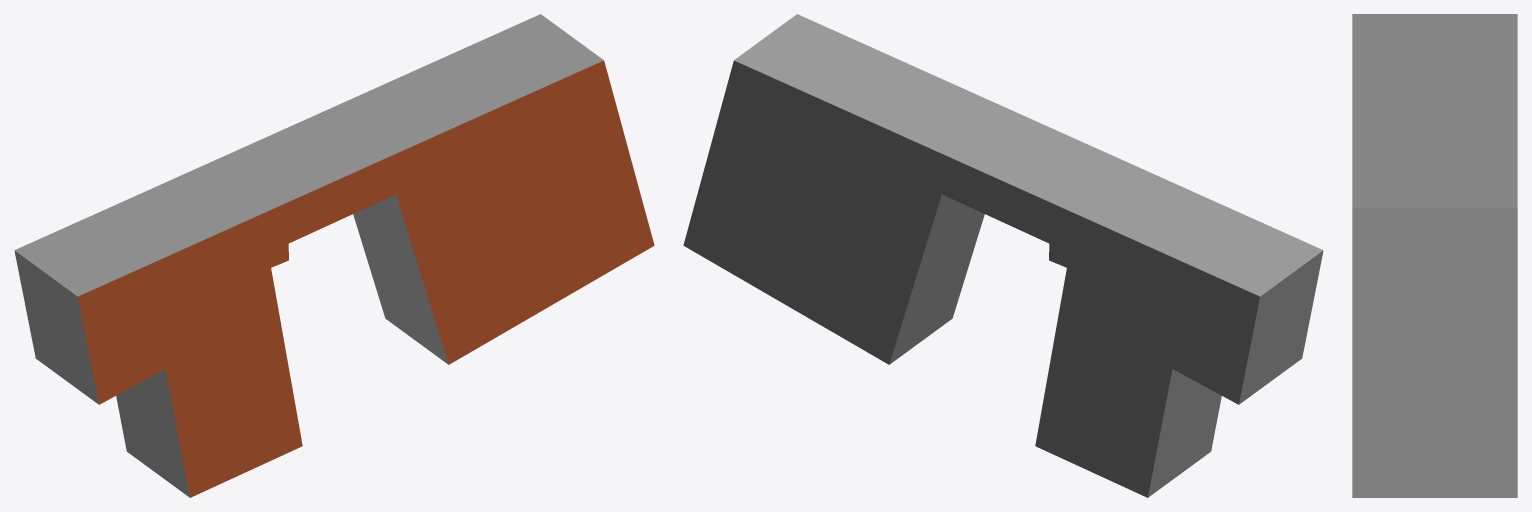
File: construction_1208_assumed_A_Casa_h6m.obj
3 views of the same model, side by side, from view 1: azimuth 30°, elevation 25°; view 2: azimuth 150°, elevation 25°; view 3: azimuth 270°, elevation 25° (orthographic). The views are drawn at different scales.
Parts seen in each view (by area): view 1: construction_1208_assumed_A_Casa; view 2: construction_1208_assumed_A_Casa; view 3: construction_1208_assumed_A_Casa.
Boxes of the visible parts, x1,y1,x2,y2 form: construction_1208_assumed_A_Casa: [14, 14, 654, 497]; construction_1208_assumed_A_Casa: [683, 14, 1323, 497]; construction_1208_assumed_A_Casa: [1352, 14, 1517, 497].
Size of the model in its own units: 31.53 by 17.58 by 6.
